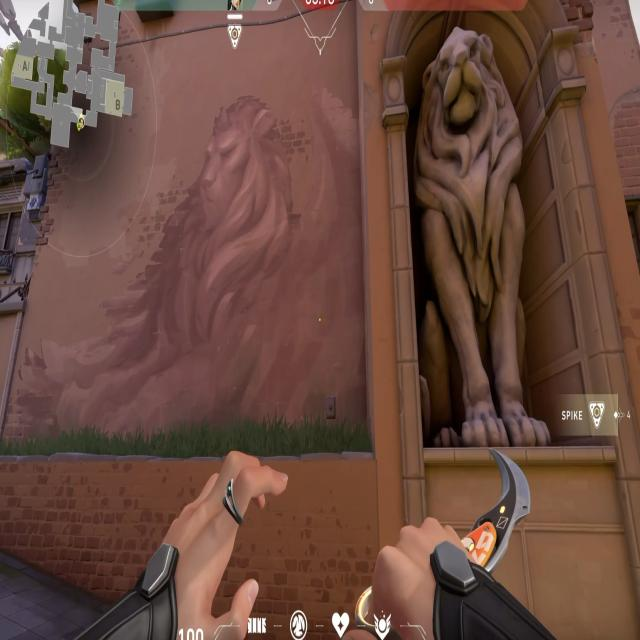Lion_Corner: (377, 3, 606, 506)
